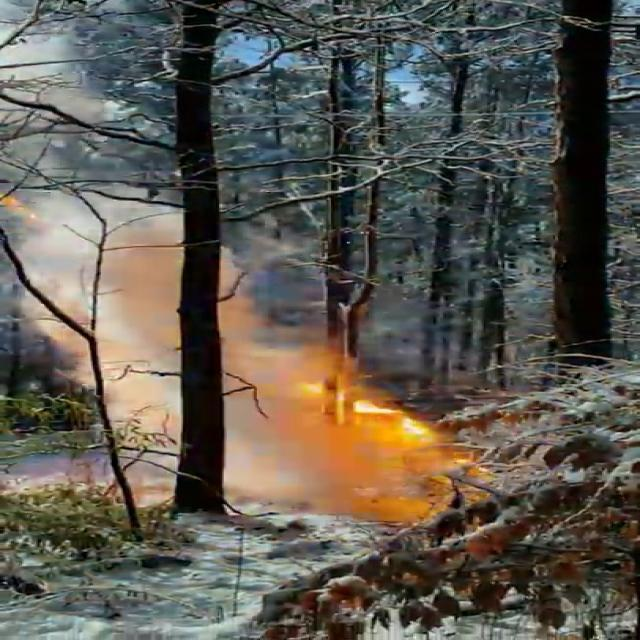Fire: (223, 327, 478, 535)
Smoke: (0, 165, 478, 535)
